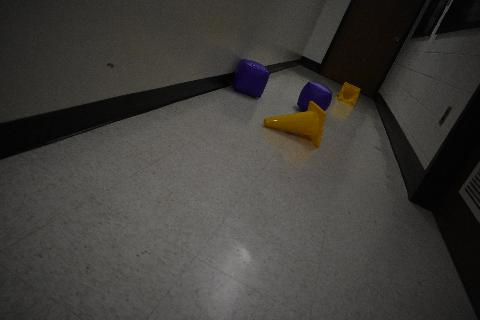cone: (264, 101, 327, 147), (337, 82, 361, 106)
cube: (232, 60, 270, 98), (297, 81, 333, 111)
